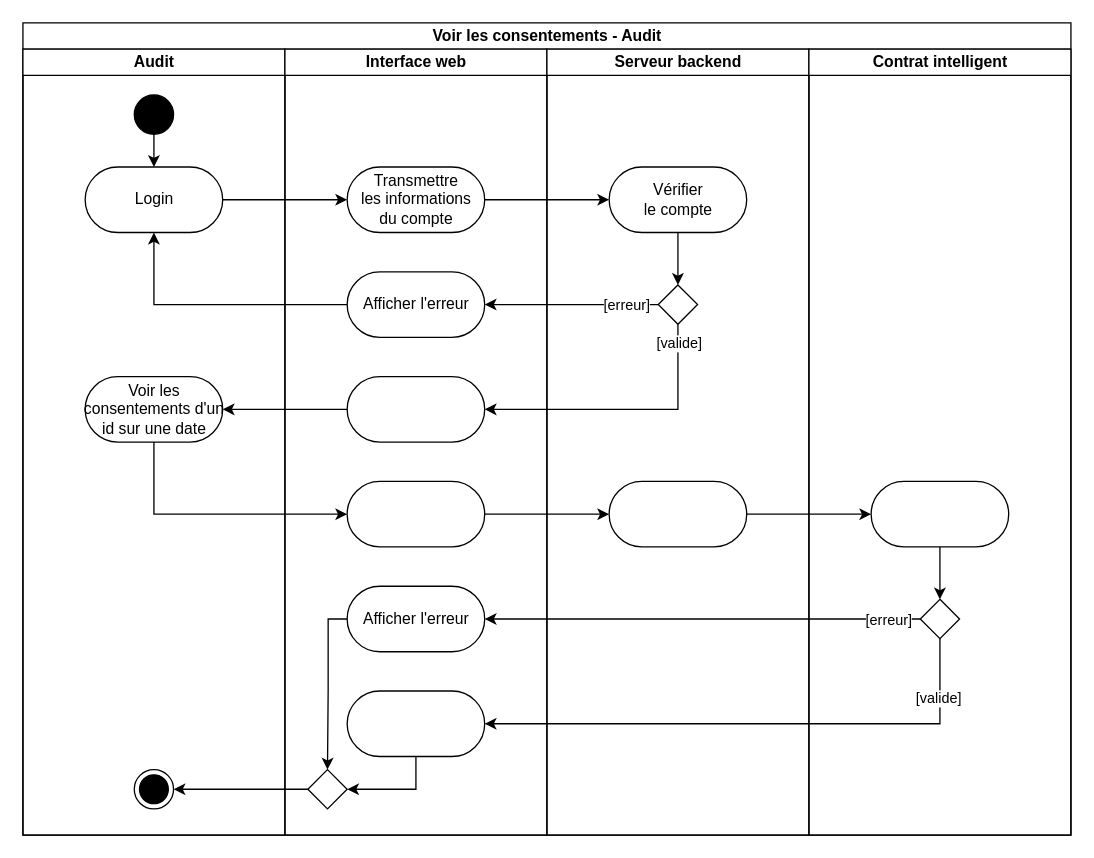
This 1094x858 diagram has some shape labels left out. Here are the shapes that lost their labels. From the top down, the centre of each, then its label:
At (x=415, y=408): "Afficher la page du compte".
At (x=415, y=513): "Envoyer la requête".
At (x=677, y=513): "Demander les informations".
At (x=939, y=513): "Donner les consentements".
At (x=415, y=723): "Afficher les consentements".
